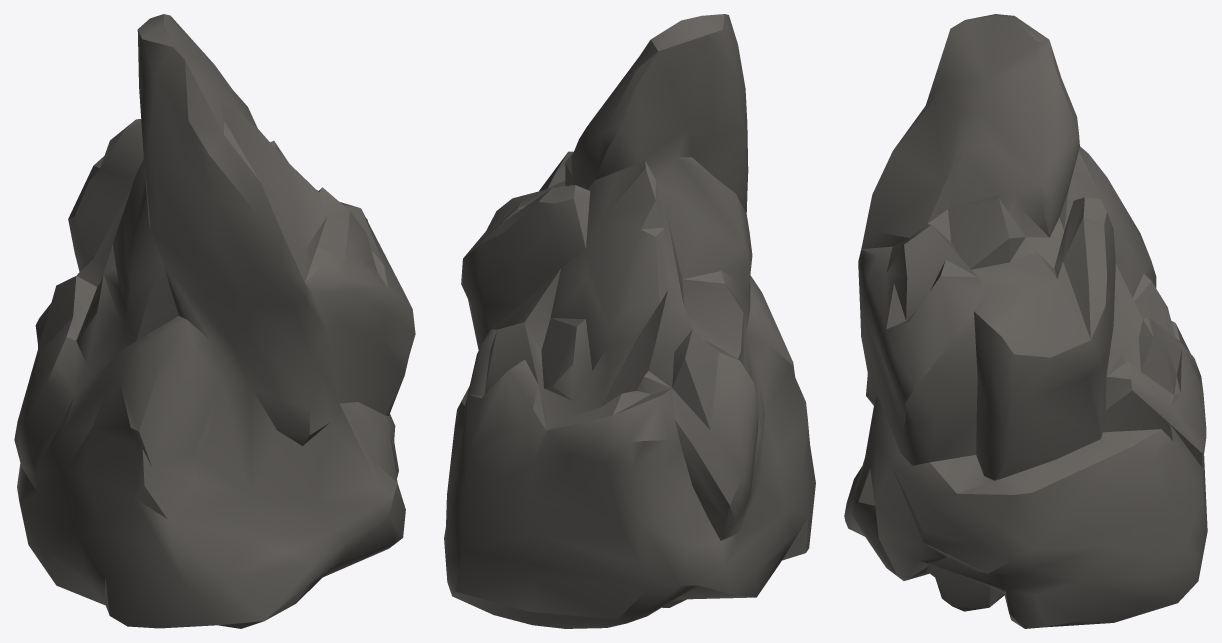
File: SM_Env_Rock_Cliff_02.fbx
The picture shows the model from 3 angles, left to right: view 1: azimuth 30°, elevation 25°; view 2: azimuth 150°, elevation 25°; view 3: azimuth 270°, elevation 25°; orthographic projection. The views are drawn at different scales.
Visible parts, largest first — view 1: SM_Env_Rock_Cliff_02; view 2: SM_Env_Rock_Cliff_02; view 3: SM_Env_Rock_Cliff_02.
Part boxes in pixels (x1,y1,x2,y2): SM_Env_Rock_Cliff_02: (14, 14, 415, 628); SM_Env_Rock_Cliff_02: (444, 14, 815, 628); SM_Env_Rock_Cliff_02: (844, 14, 1207, 628).
Bounding box in the file's own units: 1150 × 2055 × 1239.
